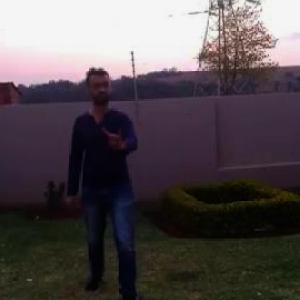takeoff-hand: (100, 118, 131, 150)
